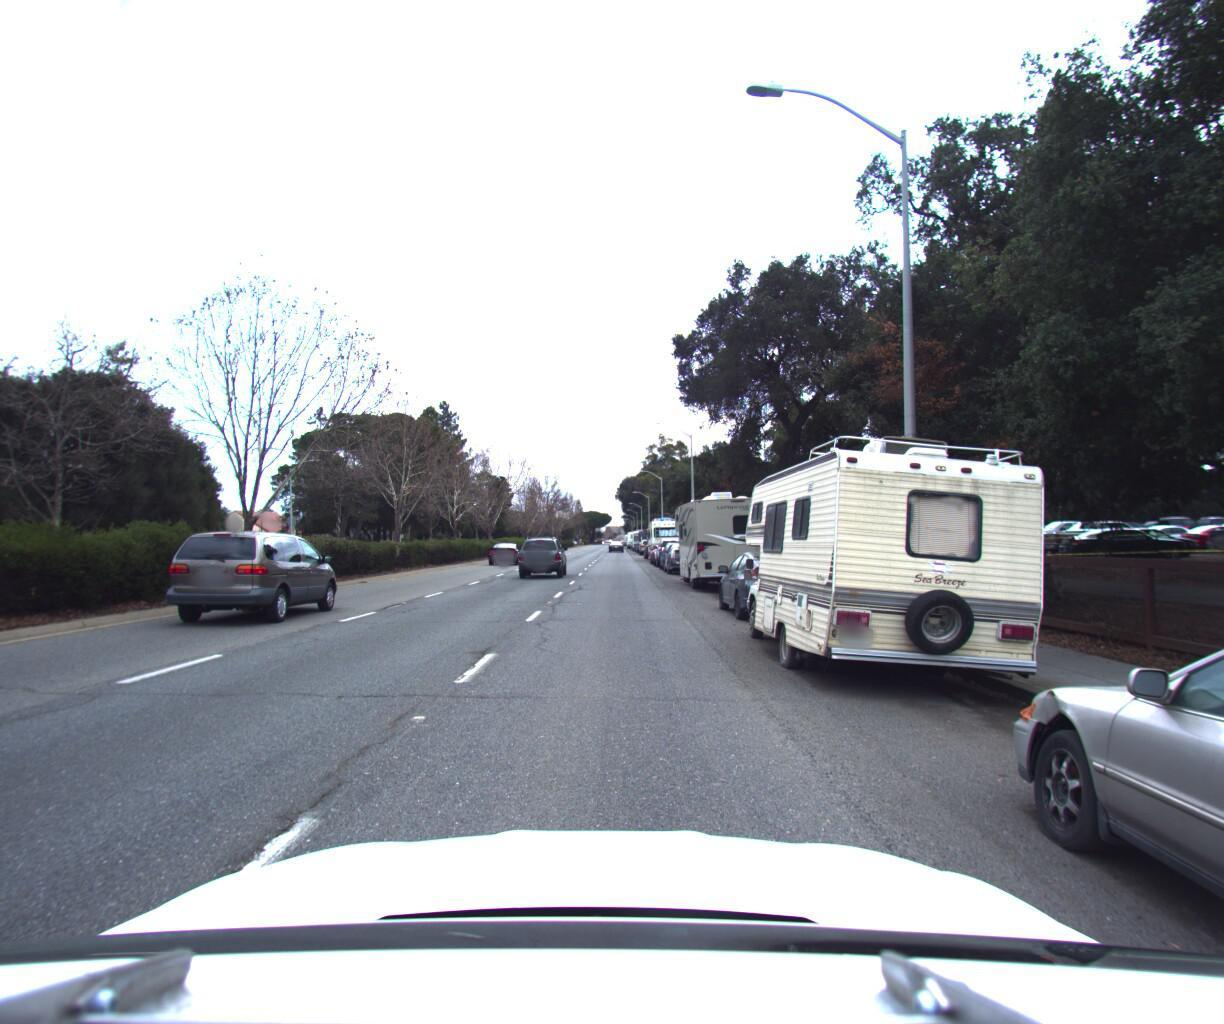car: (950, 558, 1224, 1024), (152, 521, 347, 625), (707, 539, 828, 620), (519, 530, 568, 573), (657, 534, 703, 569), (652, 533, 694, 564), (647, 530, 687, 560), (485, 533, 524, 558)
other_vehicle: (721, 395, 1090, 721), (667, 479, 780, 590), (641, 509, 688, 558)
